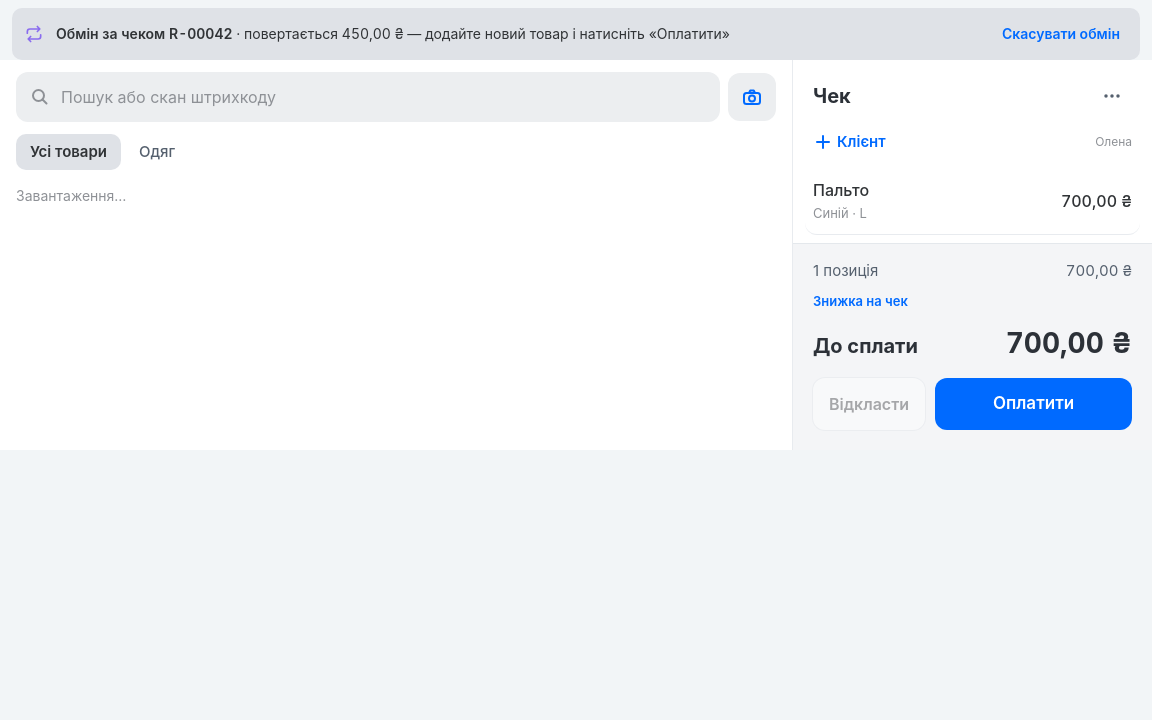
RegisterPage — the sale half of an exchange › when ПРРО voided the new receipt, names the refund that stands and turns the cart into a plain sale
Expected: the element with test id "exchange-strip" is shown, left=12, top=8, right=1140, bottom=60
Click the button "Оплатити" at (1034, 404), box left=935, top=378, right=1132, bottom=430
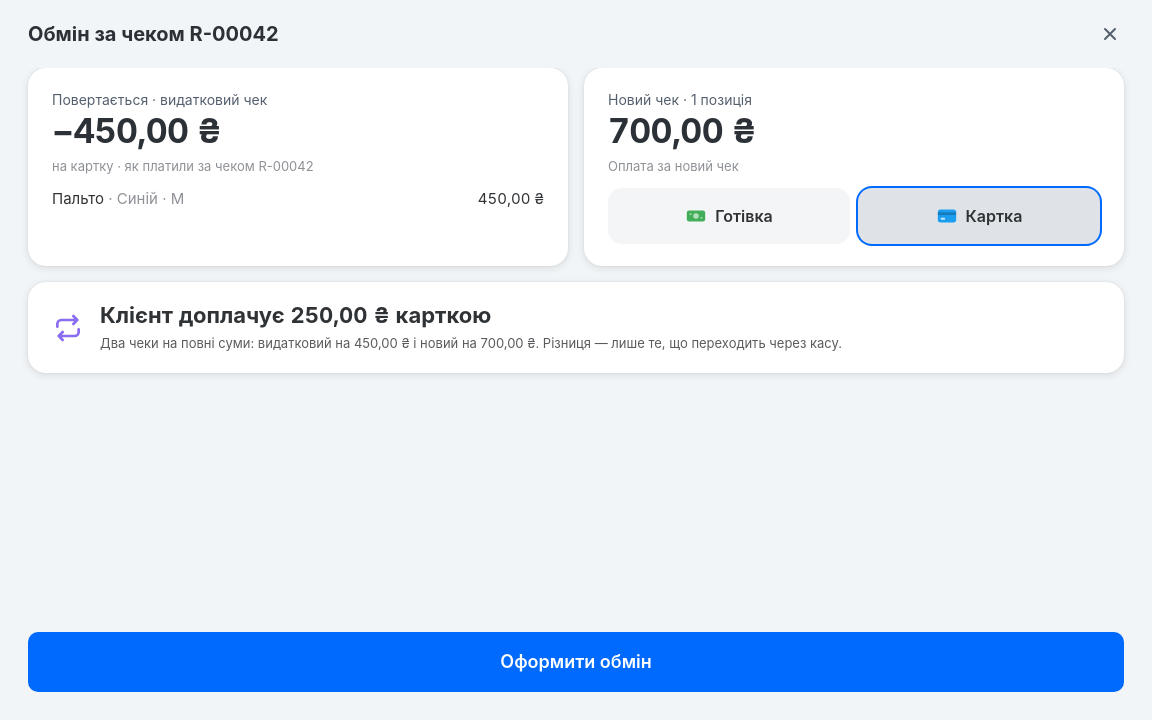
Click the button "Оформити обмін" at (576, 662), box left=28, top=632, right=1124, bottom=692
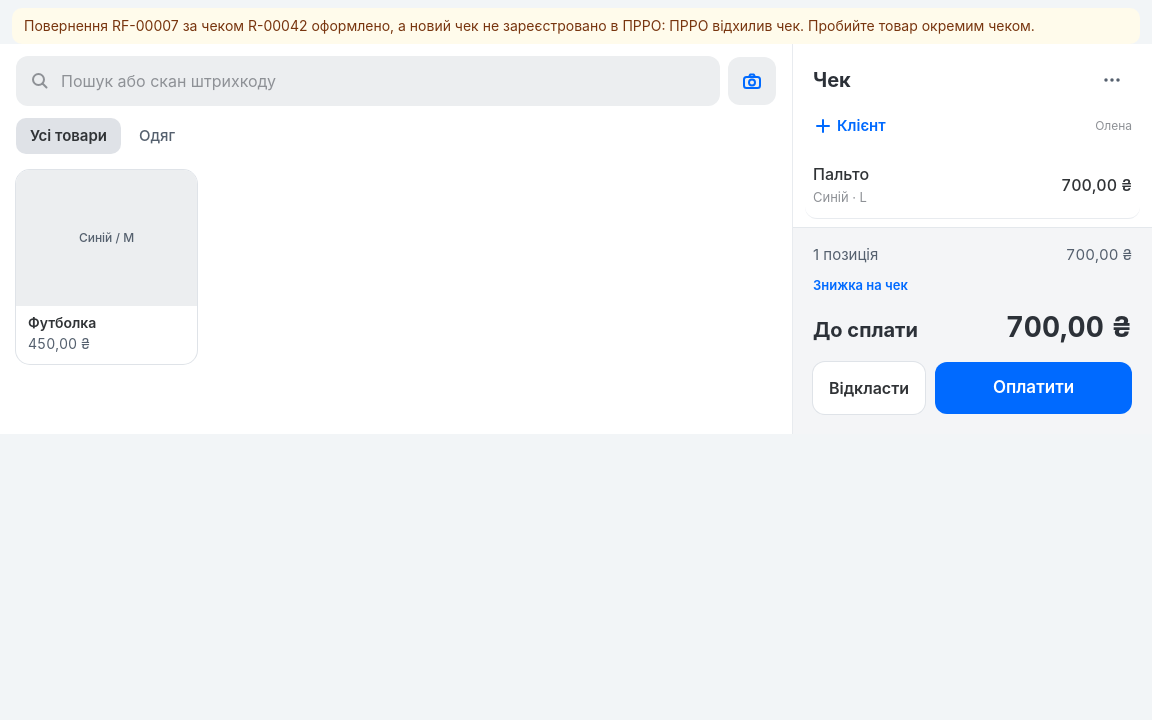
Result: the text "Пробийте товар окремим чеком" shows "Повернення RF-00007 за чеком R-00042 оформлено" at left=24, top=17, right=1035, bottom=34
Result: the text "Пробийте товар окремим чеком" shows "ПРРО відхилив чек." at left=24, top=17, right=1035, bottom=34
Result: the text "Обмін" is gone
